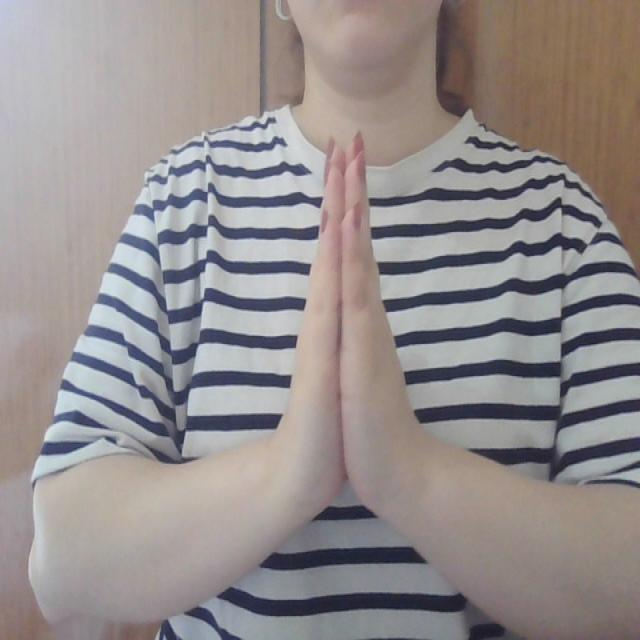Ozur-Dilemek: (272, 120, 424, 556)
